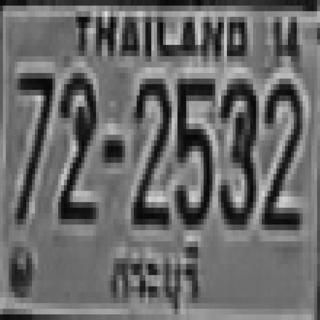N02: (262, 76, 300, 227), (131, 73, 169, 224), (57, 70, 95, 216)
N03: (217, 73, 255, 224)
N05: (172, 73, 212, 224)
N07: (15, 67, 52, 219)
P60: (105, 231, 206, 315)
